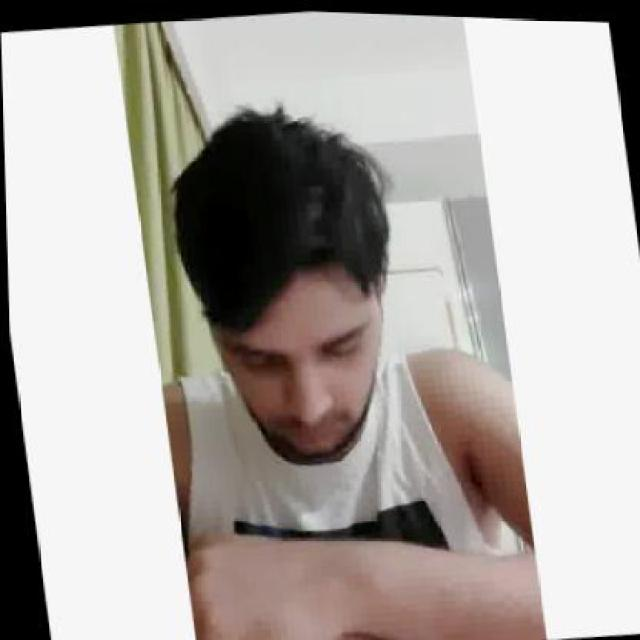inattentif: (160, 89, 405, 471)
